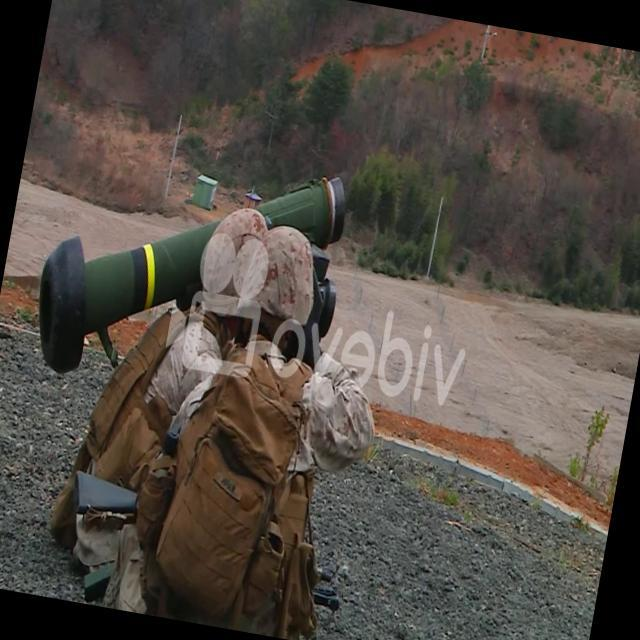rocket: (30, 135, 343, 404)
